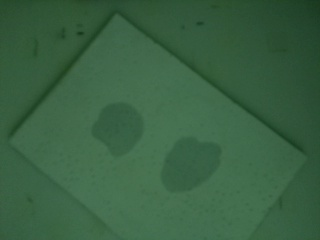Water_detected: (176, 149, 217, 189), (104, 110, 140, 149)
